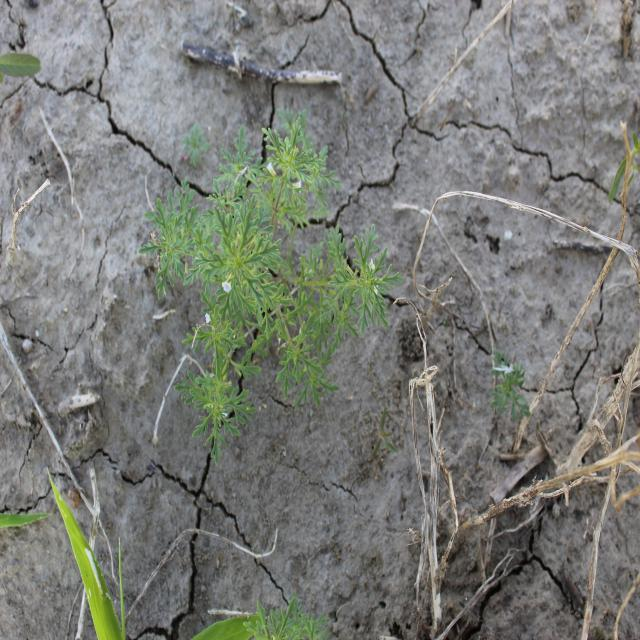Ragweed: (137, 104, 406, 470), (488, 347, 532, 422)
